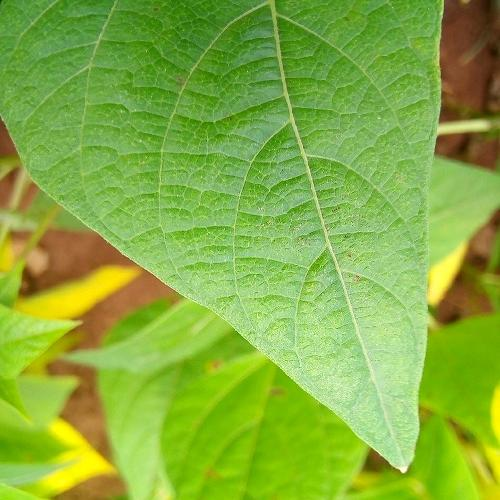sehat: (61, 7, 410, 182), (177, 196, 413, 275)
